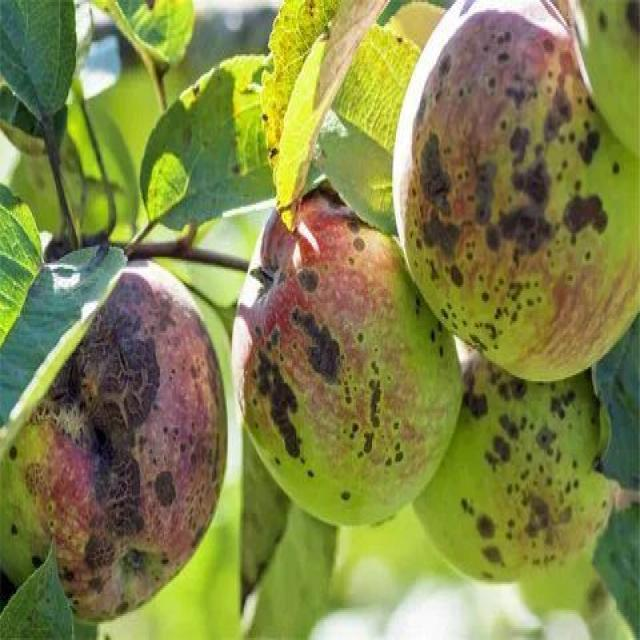Rotten: (403, 20, 640, 368), (254, 235, 454, 512)
